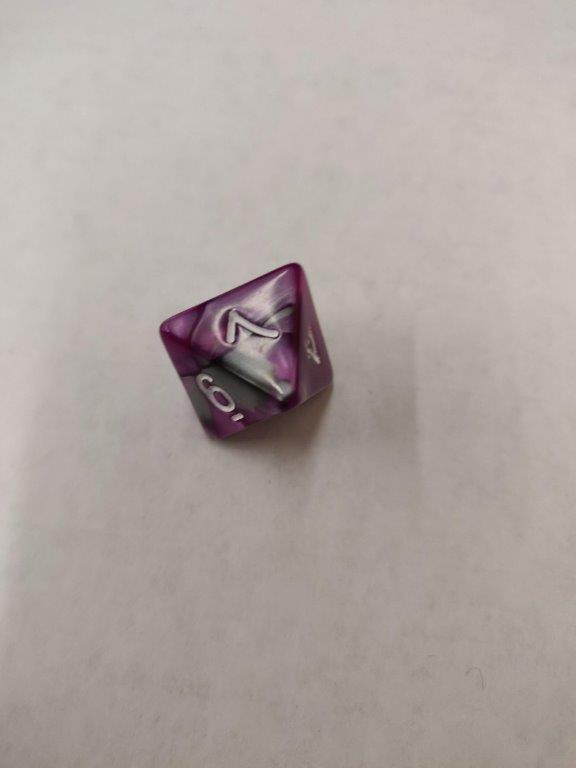d8-7: (159, 260, 334, 441)
